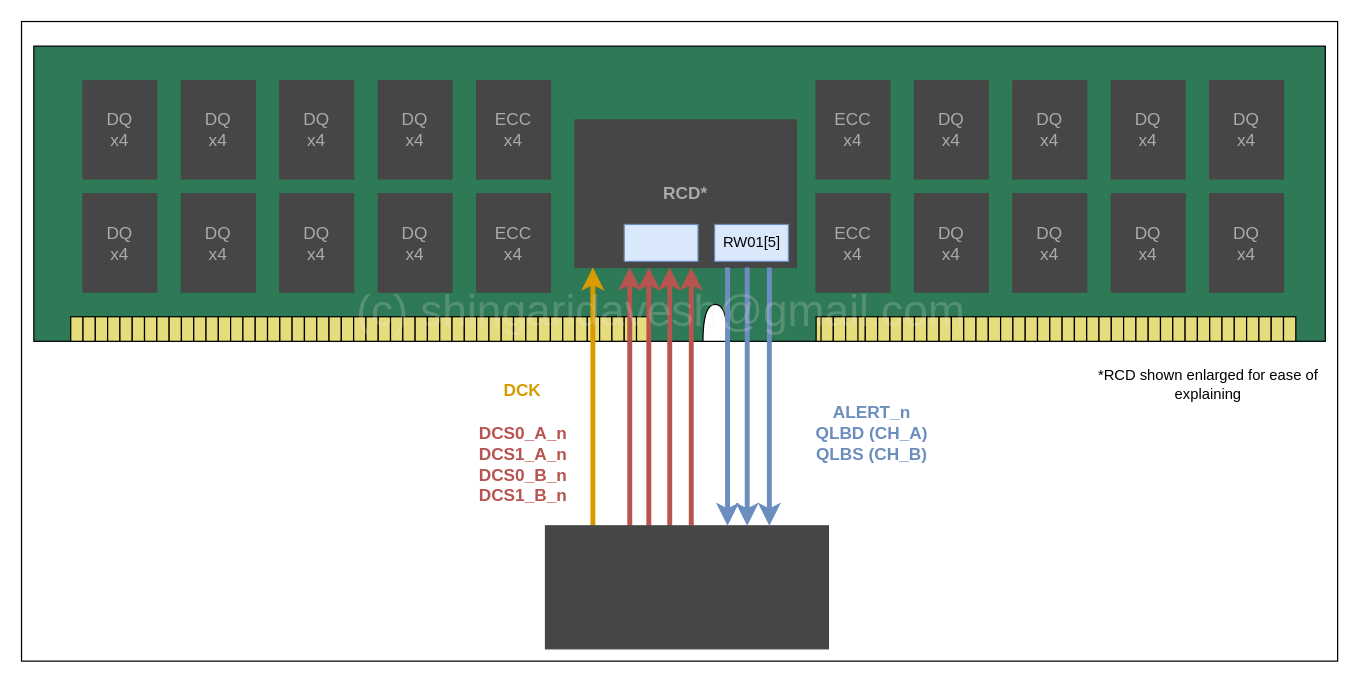
Some shapes in this 1359 by 683 pixel diagram are drawn without their labels. The centre of each missing label's shape, as x and y in pixels:
"MEMORY CONTROLLER + PHY" belongs at (686,587).
"RW02[3:0]" belongs at (660,242).
